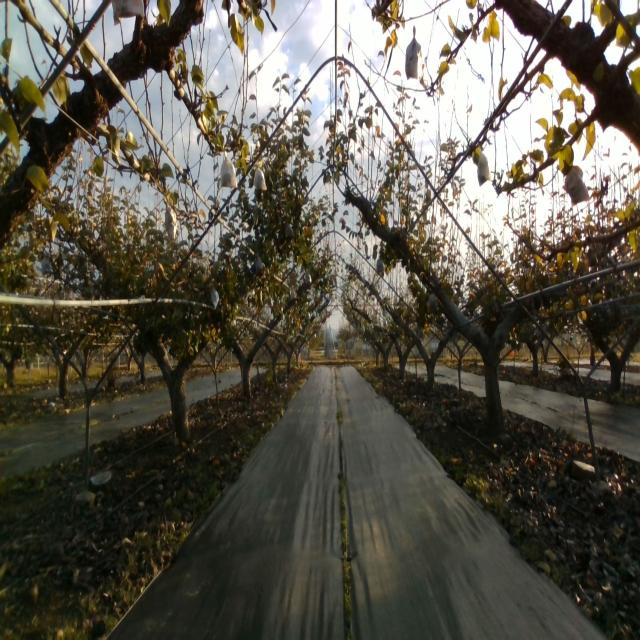pearbags: (565, 166, 590, 206), (405, 25, 421, 80), (220, 150, 238, 189), (163, 196, 177, 241), (476, 148, 491, 186), (254, 167, 267, 192), (210, 285, 220, 310), (427, 292, 438, 312)
